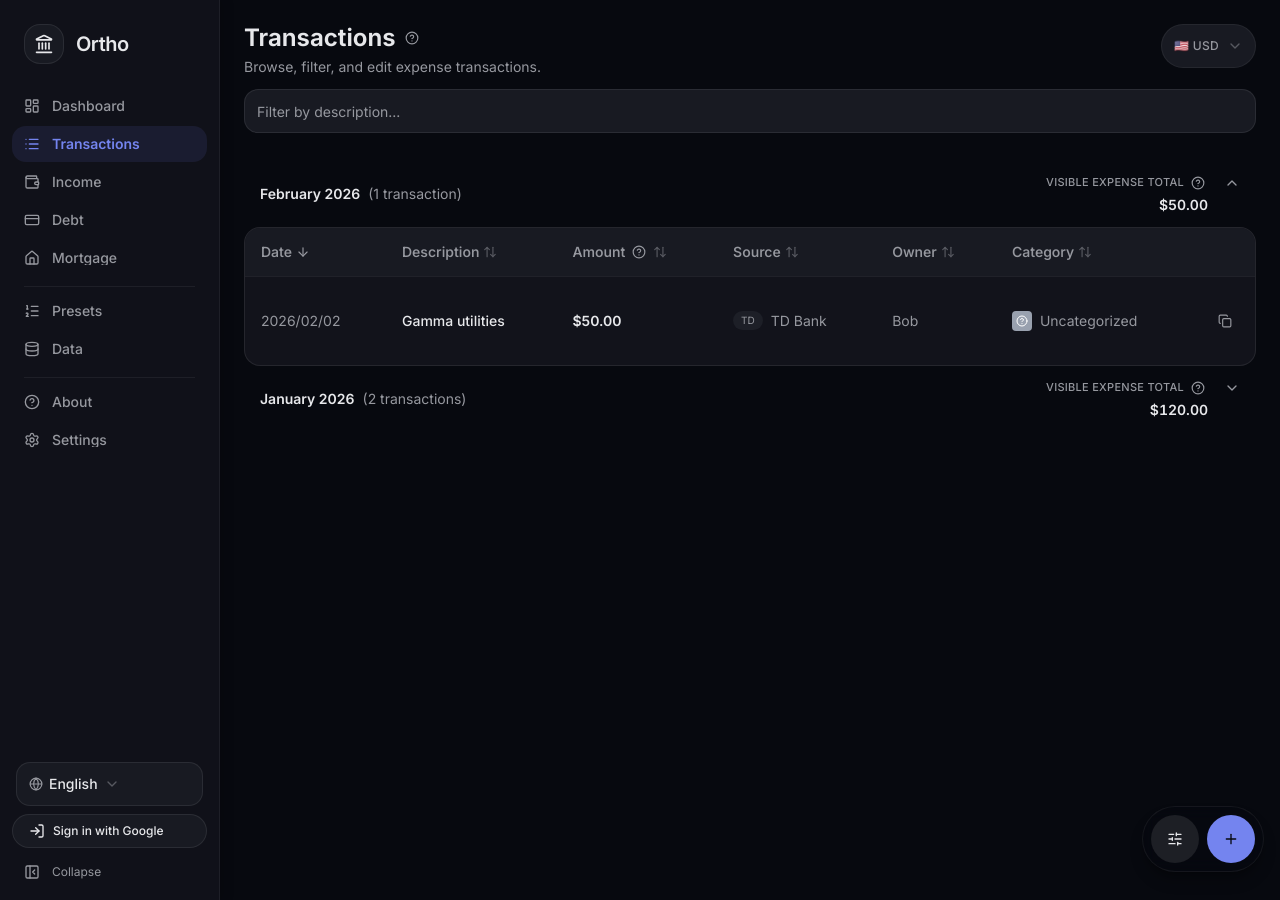
it: TransactionsPage opens add transaction sheet
What coordinates should you click on to do the following:
click the button named "add"
I would click on:
 (1231, 839)
Its box is [1207,815,1255,863].
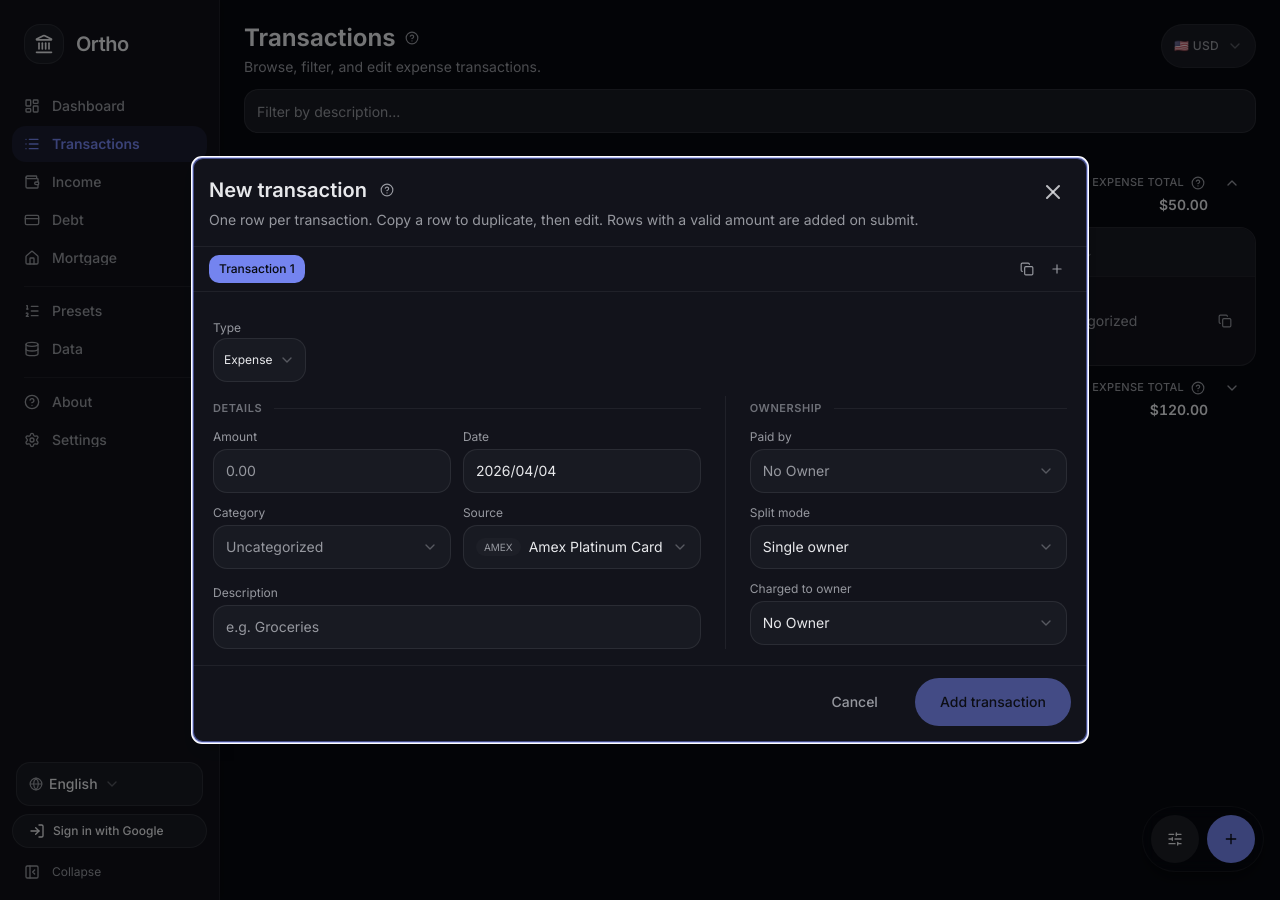
Check: the text "New transaction" is shown, box [209,178,399,202]
